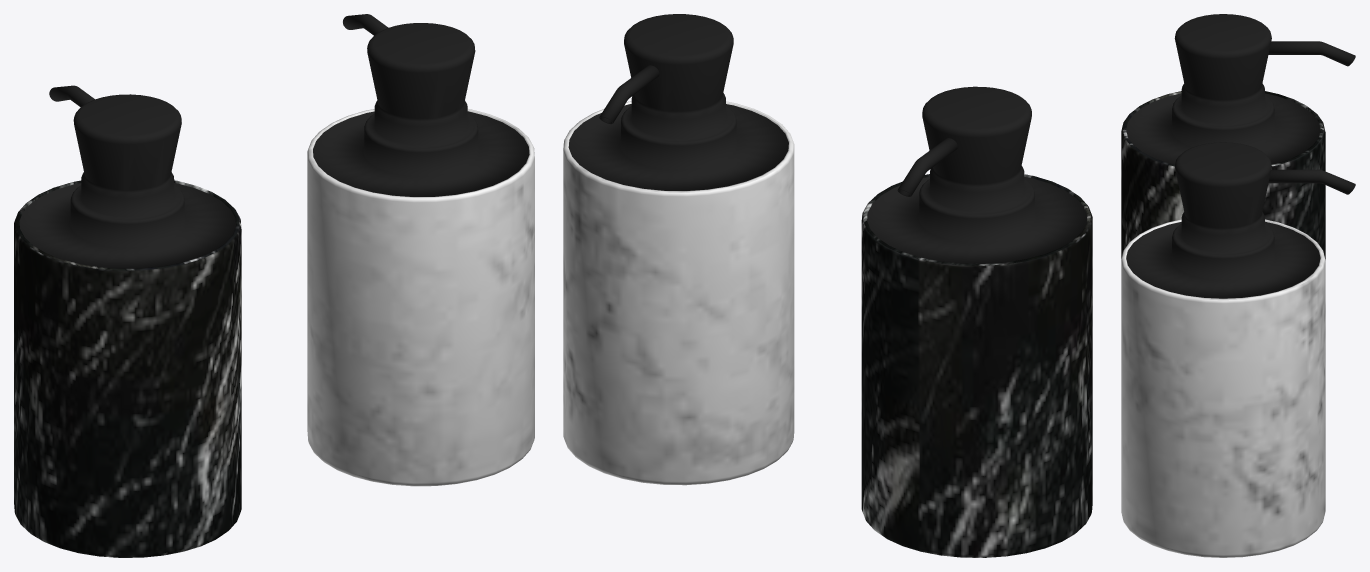
The model's file is distributeurs_marbre.glb.
The picture shows the model from 3 angles, left to right: view 1: azimuth 30°, elevation 25°; view 2: azimuth 150°, elevation 25°; view 3: azimuth 270°, elevation 25°; orthographic projection. The views are drawn at different scales.
Visible parts, largest first — view 1: Object_8, Object_5, Object_4; view 2: Object_8, Object_5, Object_4; view 3: Object_5, Object_4, Object_8.
Part boxes in pixels (x1,y1,x2,y2): Object_8: (14, 180, 241, 557); Object_5: (307, 109, 534, 486); Object_4: (19, 14, 529, 268); Object_8: (861, 174, 1092, 557); Object_5: (563, 101, 794, 485); Object_4: (568, 14, 1087, 263); Object_5: (1121, 219, 1325, 557); Object_4: (1126, 14, 1355, 298); Object_8: (1121, 91, 1325, 259).
Bounding box in the file's own units: 0.1701 × 0.1314 × 0.0785.
Materials: 3 (2 with a texture image).
